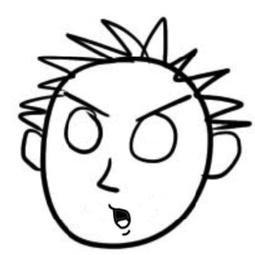ear: (201, 128, 241, 183), (16, 127, 49, 169)
empty_eye: (120, 111, 182, 163), (58, 106, 104, 154)
frowning_eyebrow: (130, 93, 192, 121), (64, 90, 112, 118)
open_mouth: (103, 197, 140, 235)
pointy_nose: (88, 153, 123, 197)
